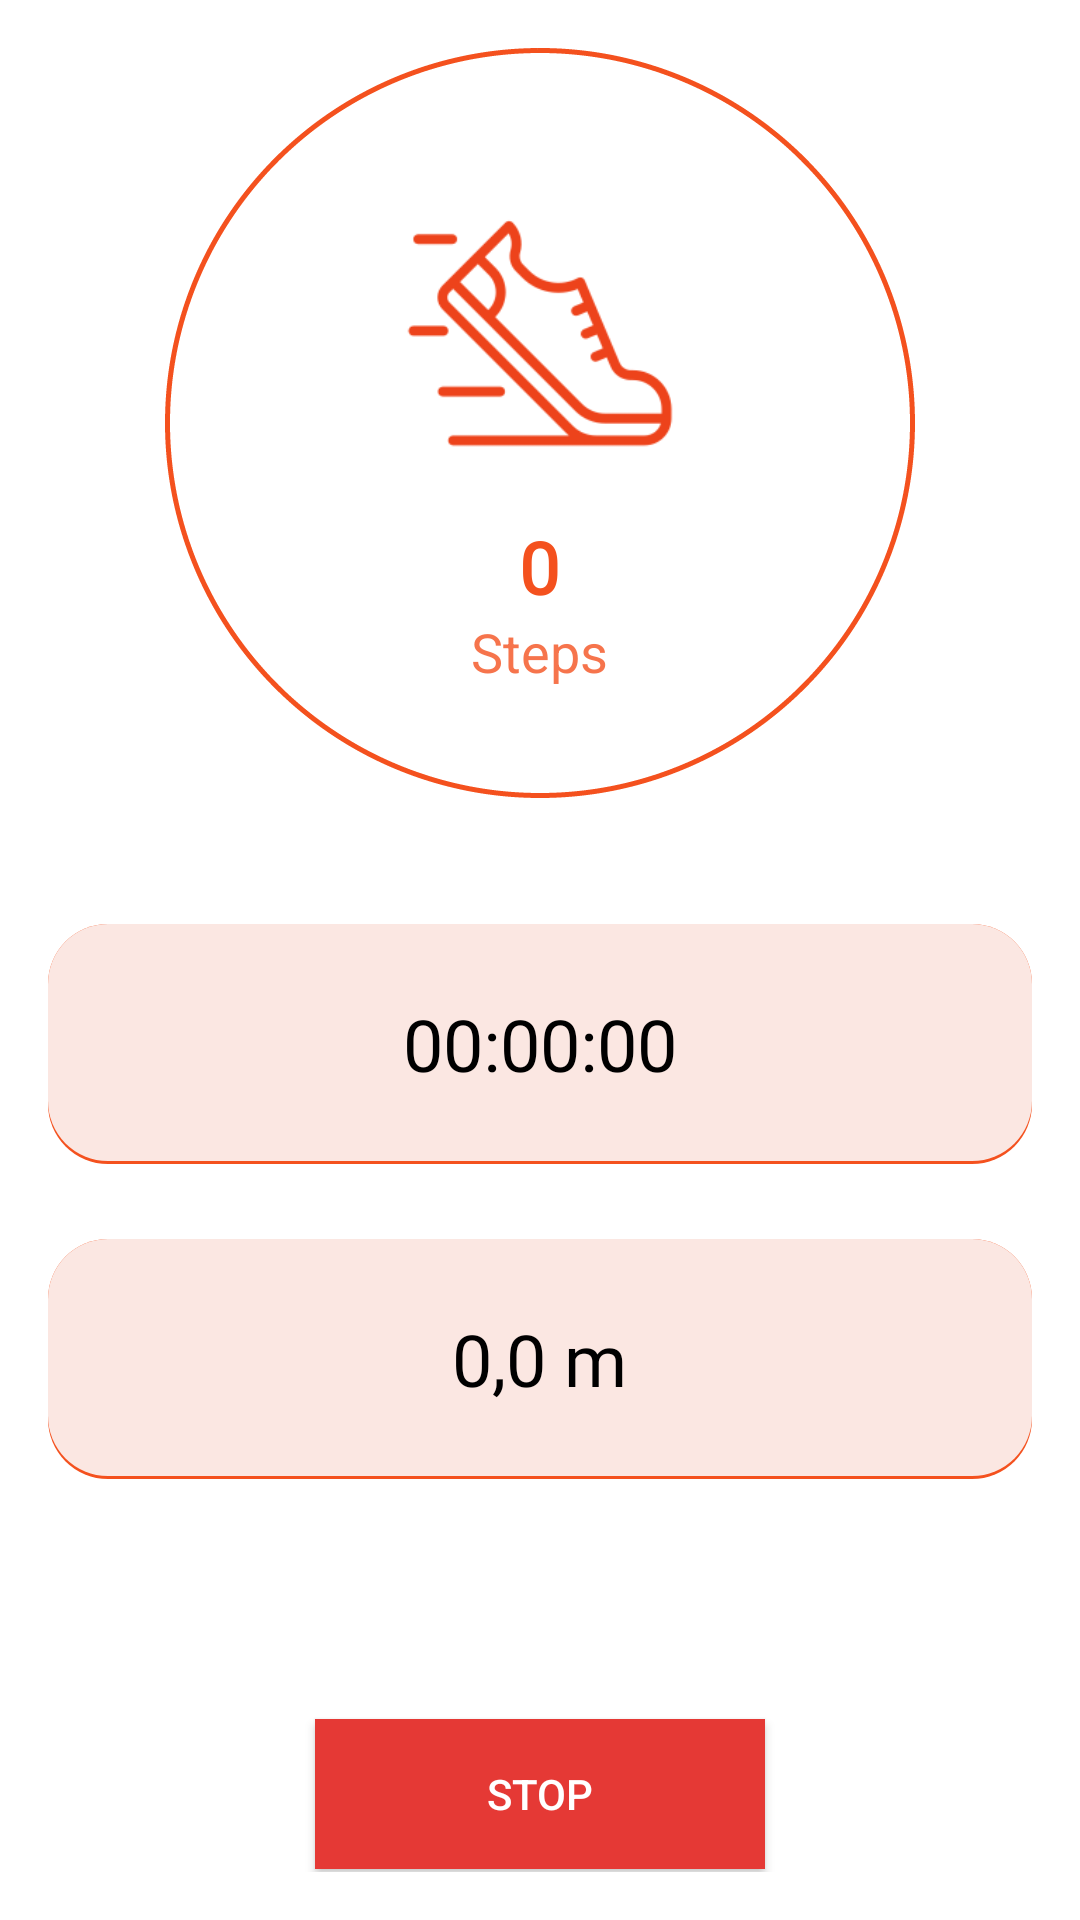

Icons on this 1080 x 1920 Android screen, each with the point to tap as [x,y]:
shoe: [540,334]
